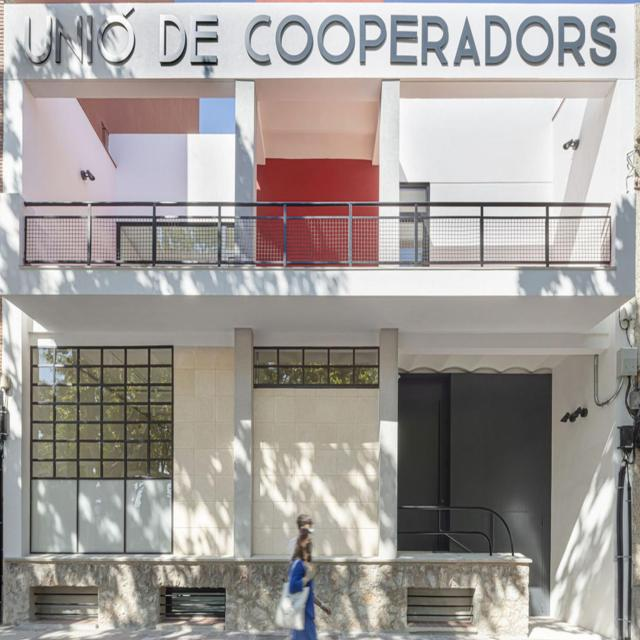Railing: (20, 199, 612, 266)
wall: (0, 3, 640, 640)
windows: (30, 347, 173, 557)
